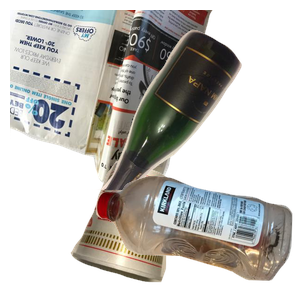glass: (87, 27, 300, 207)
paper: (10, 10, 215, 186)
plastic: (93, 173, 300, 300)
trash: (68, 158, 235, 300)
